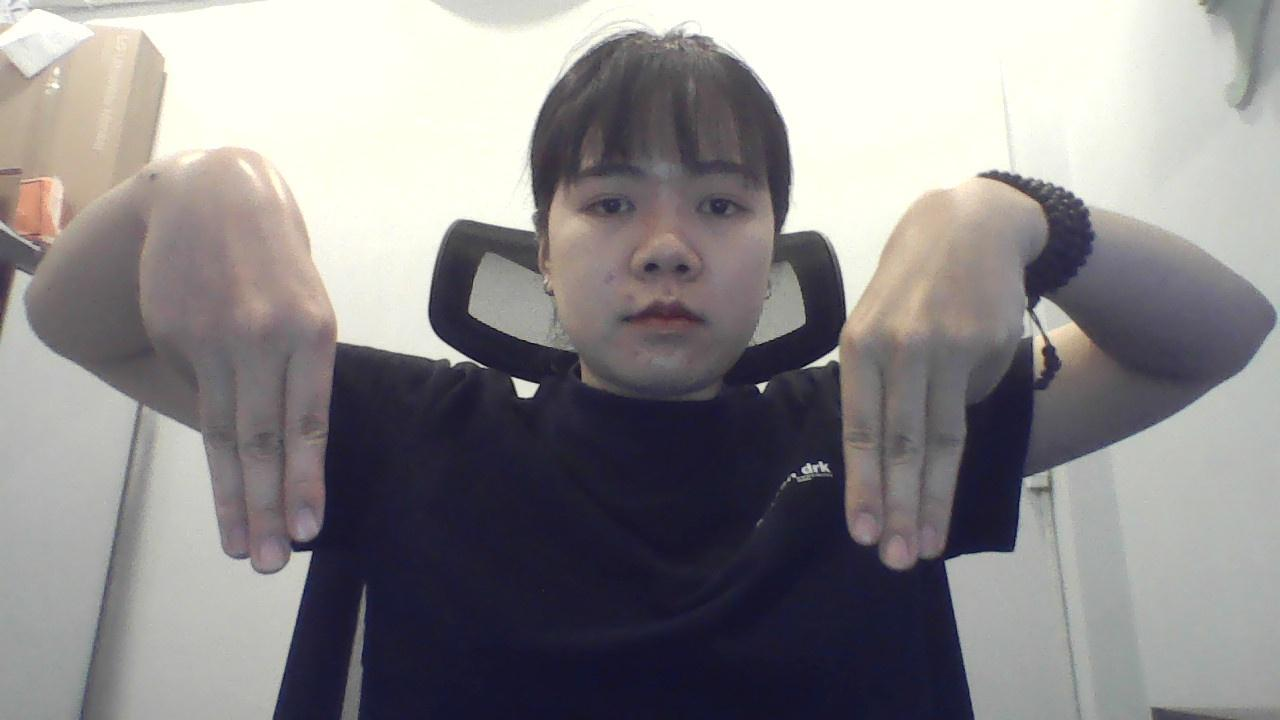M: (136, 135, 342, 586), (812, 176, 1029, 590)
